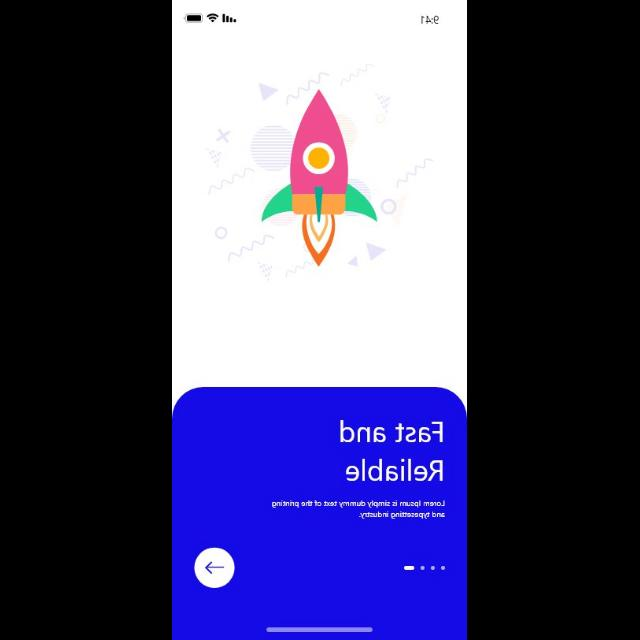icon: (195, 548, 235, 588)
image: (208, 64, 434, 282)
pageindicator: (404, 566, 446, 570)
text: (340, 419, 444, 481), (272, 500, 446, 520)
uppertaskbar: (184, 13, 440, 24)
